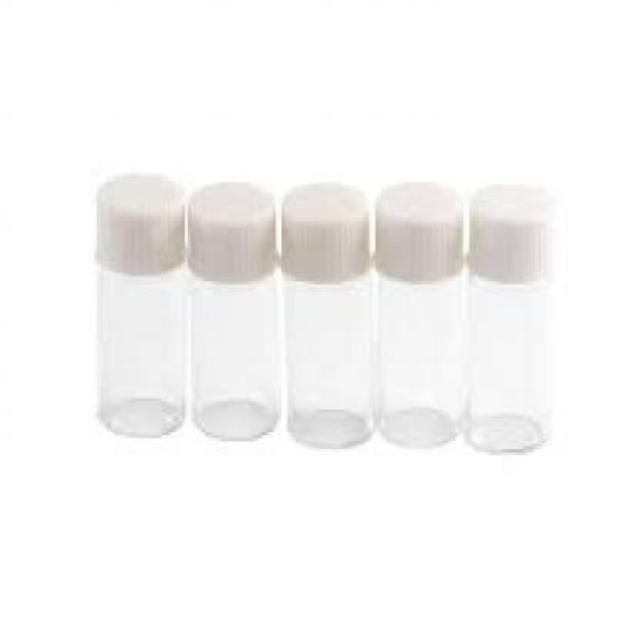kaca: (282, 268, 372, 446), (94, 258, 181, 436), (462, 268, 546, 449), (376, 264, 458, 442), (191, 272, 278, 436)
